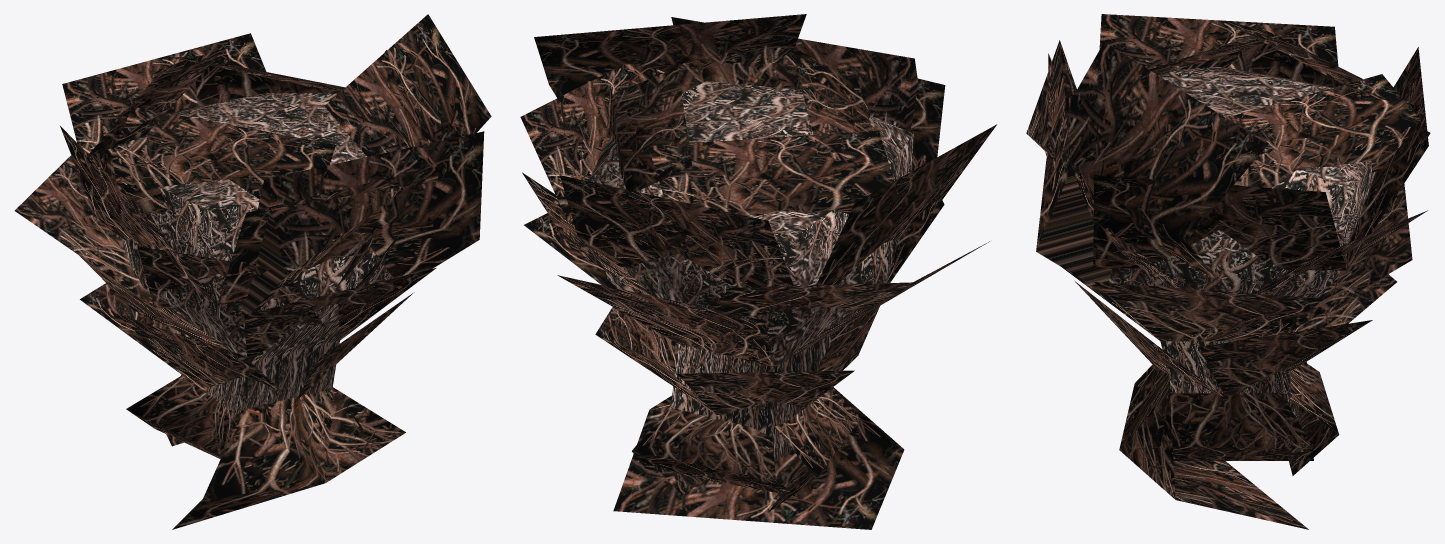
The model's file is poi_all_lair_thicket_large_l2.fbx.
The picture shows the model from 3 angles, left to right: view 1: azimuth 30°, elevation 25°; view 2: azimuth 150°, elevation 25°; view 3: azimuth 270°, elevation 25°; orthographic projection. The views are drawn at different scales.
Parts seen in each view (by area): view 1: mesh_node; view 2: mesh_node; view 3: mesh_node.
Boxes of the visible parts, x1,y1,x2,y2 form: mesh_node: (14, 14, 491, 529); mesh_node: (520, 14, 996, 529); mesh_node: (1026, 14, 1430, 529).
Size of the model in its own units: 5.07 by 5.06 by 4.09.
